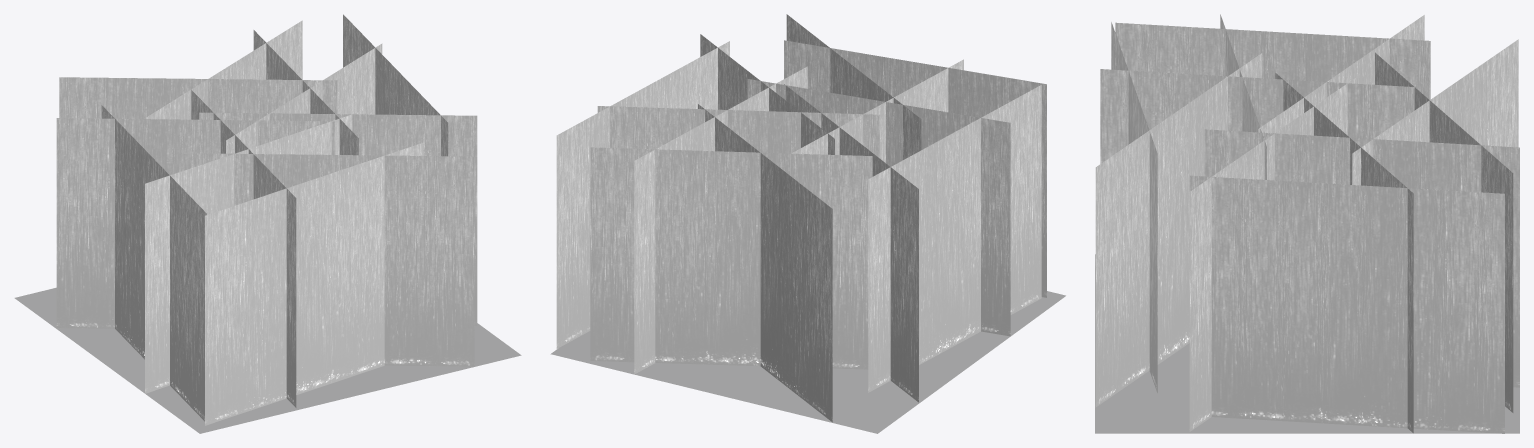
Rendered from rain.glb.
3 renders of one model, left to right at view 1: azimuth 30°, elevation 25°; view 2: azimuth 150°, elevation 25°; view 3: azimuth 270°, elevation 25°, orthographic. The views are drawn at different scales.
Size of what is drawn, in the model's own units: 963 by 600 by 962.
Materials: 2 (1 with a texture image).
